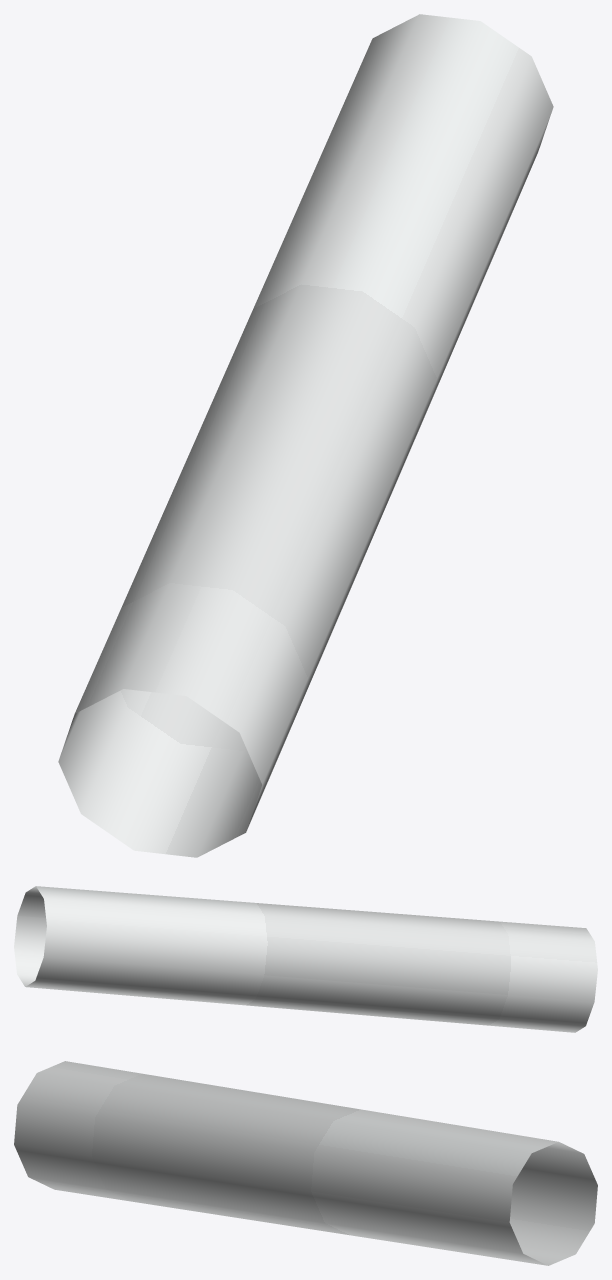
Rendered from nycsignalarm_diagonal12_c21.obj.
3 renders of one model, top to bottom at view 1: azimuth 30°, elevation 25°; view 2: azimuth 150°, elevation 25°; view 3: azimuth 270°, elevation 25°, orthographic. The views are drawn at different scales.
Parts seen in each view (by area): view 1: nycsignalarm_diagonal12_c21; view 2: nycsignalarm_diagonal12_c21; view 3: nycsignalarm_diagonal12_c21.
Boxes of the visible parts, x1,y1,x2,y2 form: nycsignalarm_diagonal12_c21: (58,14,553,857); nycsignalarm_diagonal12_c21: (14,886,597,1032); nycsignalarm_diagonal12_c21: (14,1061,597,1265).
Size of the model in its own units: 1.18 by 0.5308 by 1.18.
